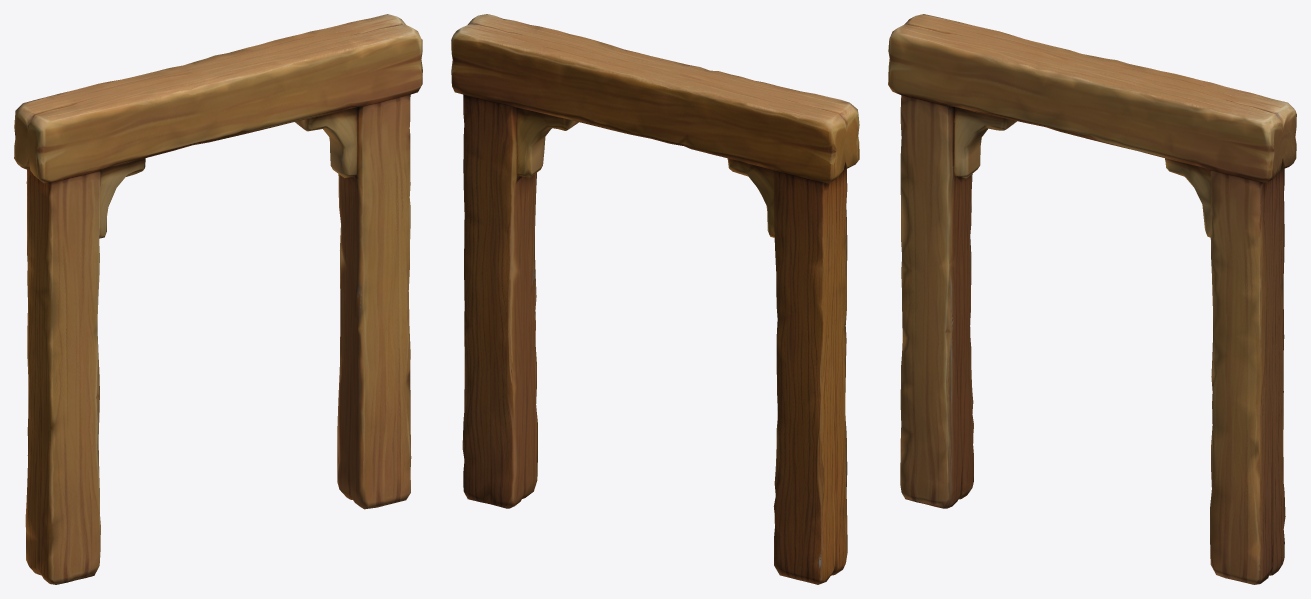
The model's file is SM_Env_Arch.fbx.
3 views of the same model, side by side, from view 1: azimuth 30°, elevation 25°; view 2: azimuth 150°, elevation 25°; view 3: azimuth 330°, elevation 25° (orthographic).
Parts seen in each view (by area): view 1: SM_Env_Arch; view 2: SM_Env_Arch; view 3: SM_Env_Arch.
Part boxes in pixels (x1,y1,x2,y2): SM_Env_Arch: [14, 14, 422, 584]; SM_Env_Arch: [451, 14, 859, 584]; SM_Env_Arch: [888, 14, 1296, 584].
Bounding box in the file's own units: 3 × 3.5 × 0.4.
